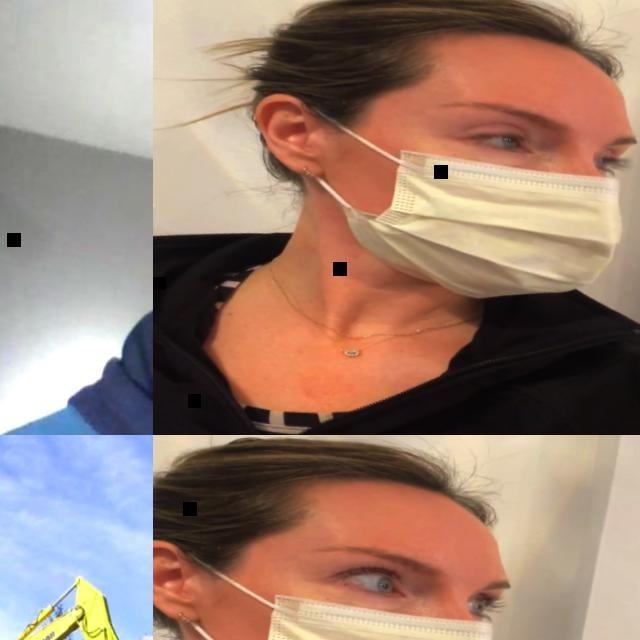Mask: (288, 104, 636, 317), (160, 543, 514, 640)
NO-Hardhat: (153, 435, 507, 561), (259, 0, 640, 112)
NO-Safety Vest: (153, 242, 640, 435)
Person: (153, 0, 640, 435), (153, 435, 640, 640), (0, 0, 153, 435)
machinery: (0, 549, 153, 640)
